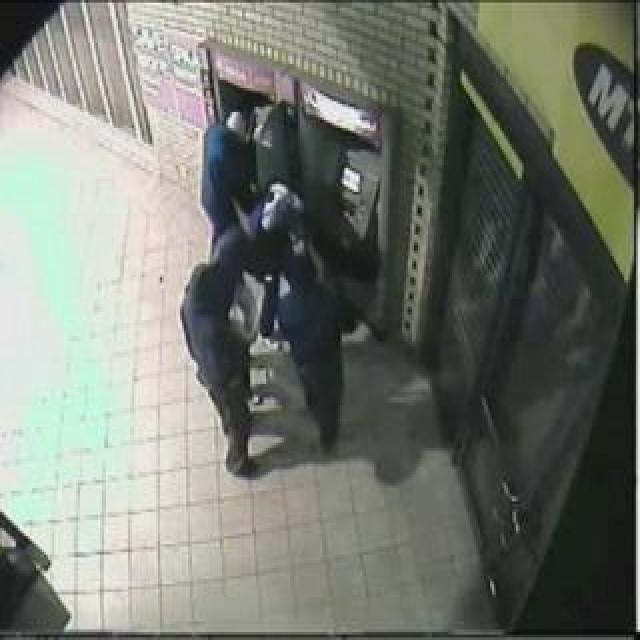thief: (187, 91, 331, 340)
